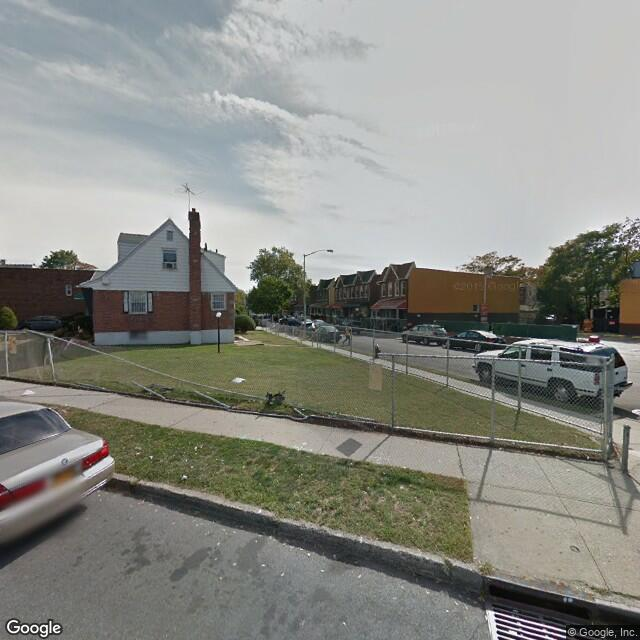litter: (281, 539, 318, 557), (228, 371, 250, 388), (188, 436, 209, 453), (176, 468, 194, 485), (19, 383, 37, 399), (392, 480, 411, 494), (143, 448, 158, 465), (132, 444, 145, 463), (295, 436, 312, 449), (581, 452, 594, 464)
